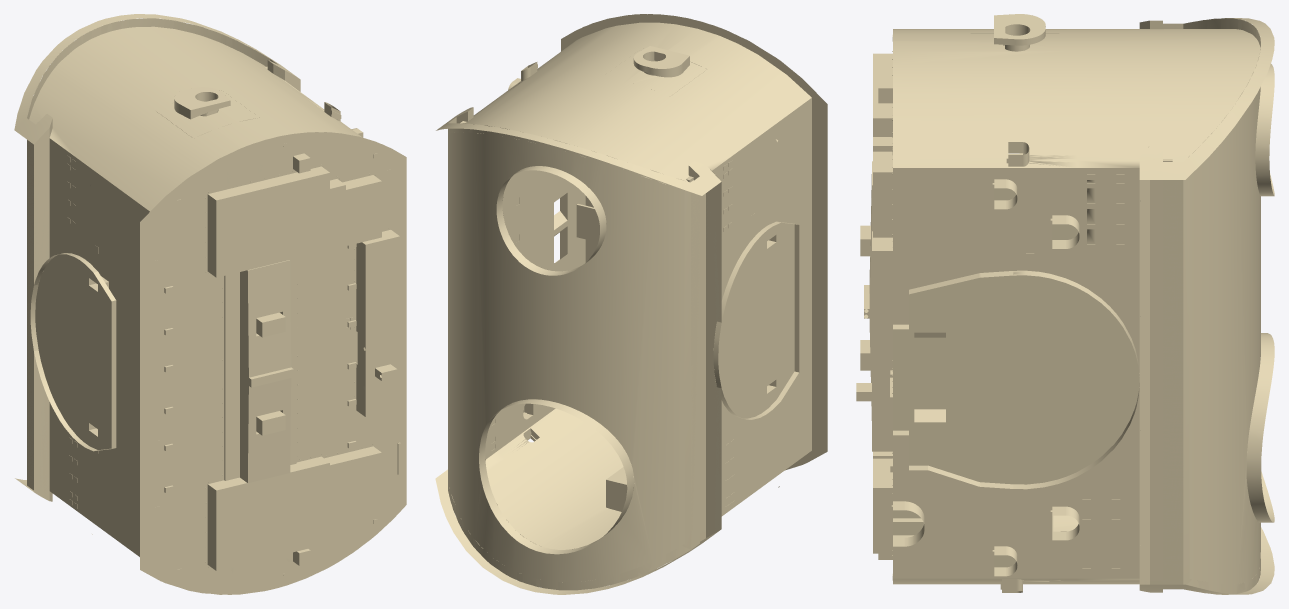
Rendered from Cavern-decimated.FBX.
3 views of the same model, side by side, from view 1: azimuth 30°, elevation 25°; view 2: azimuth 150°, elevation 25°; view 3: azimuth 270°, elevation 25° (orthographic). The views are drawn at different scales.
Visible parts, largest first — view 1: Cavern-decimated; view 2: Cavern-decimated; view 3: Cavern-decimated.
Boxes of the visible parts, box(x1,y1,x2,y2) form: Cavern-decimated: box(14, 14, 406, 594); Cavern-decimated: box(435, 14, 827, 594); Cavern-decimated: box(856, 14, 1274, 594).
Bounding box in the file's own units: 3400 × 3970 × 5630.
